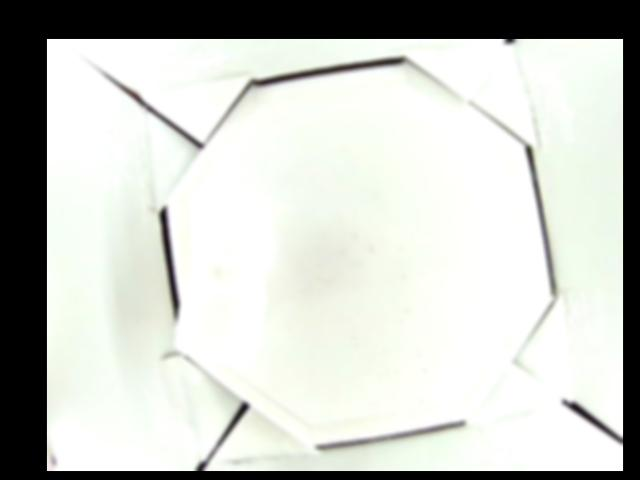Bottle: (172, 187, 272, 364)
